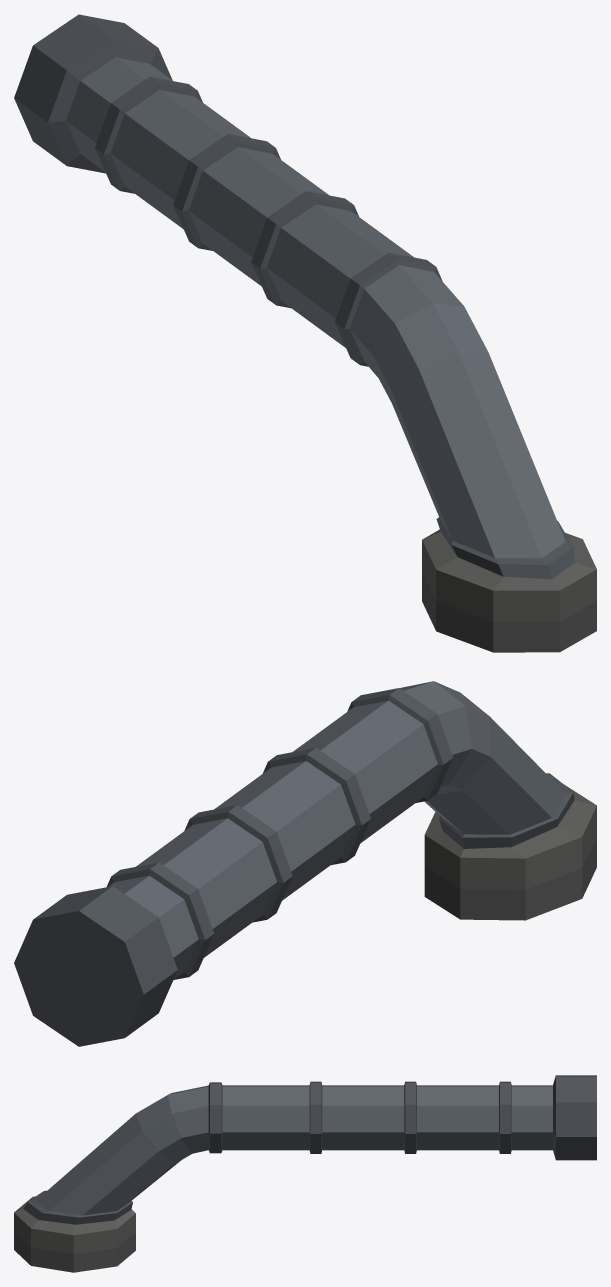
Rendered from SM_Bld_GasTower_Pipe_01.glb.
The picture shows the model from 3 angles, top to bottom: view 1: azimuth 30°, elevation 25°; view 2: azimuth 150°, elevation 25°; view 3: azimuth 270°, elevation 25°; orthographic projection. The views are drawn at different scales.
Visible parts, largest first — view 1: SM_Bld_GasTower_Pipe_01; view 2: SM_Bld_GasTower_Pipe_01; view 3: SM_Bld_GasTower_Pipe_01.
Boxes of the visible parts, left/top/right/bottom form: SM_Bld_GasTower_Pipe_01: left=14, top=14, right=596, bottom=652; SM_Bld_GasTower_Pipe_01: left=14, top=681, right=596, bottom=1046; SM_Bld_GasTower_Pipe_01: left=14, top=1075, right=596, bottom=1272.
Size of the model in its own units: 3.99 by 7.6 by 22.99.
Materials: 1 (1 with a texture image).
